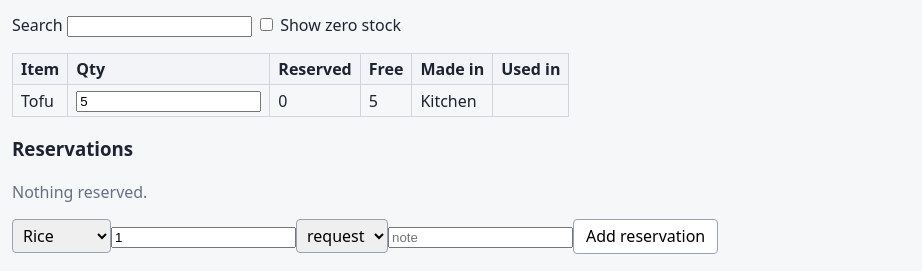
Test: StockTab › shows an error for -3 and keeps the old quantity
Replace the text in the field named "Stock Tofu" with "-3": (169, 102) [76,91,261,112]
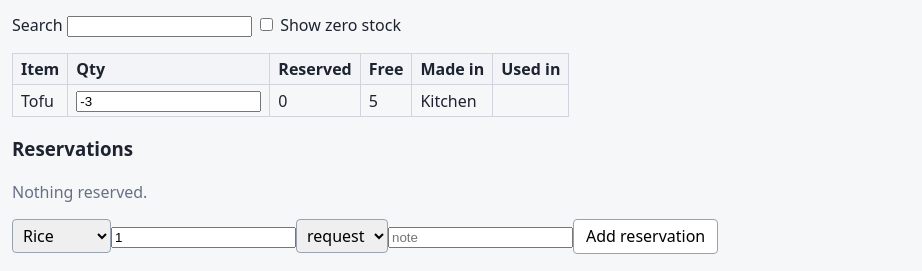
Leave the field named "Stock Tofu", box [76,91,261,112]
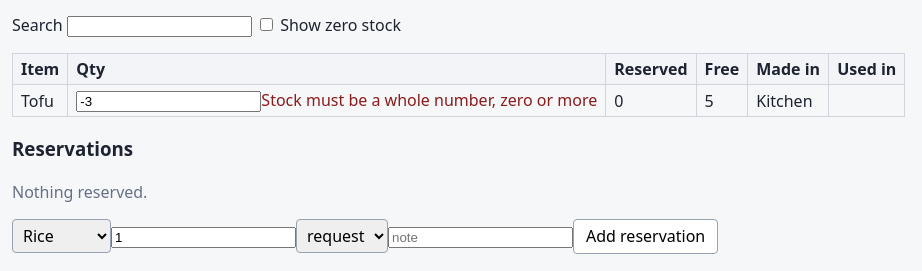
Check: the message "Stock must be a whole number, zero or more" is shown, box [261,89,597,111]
